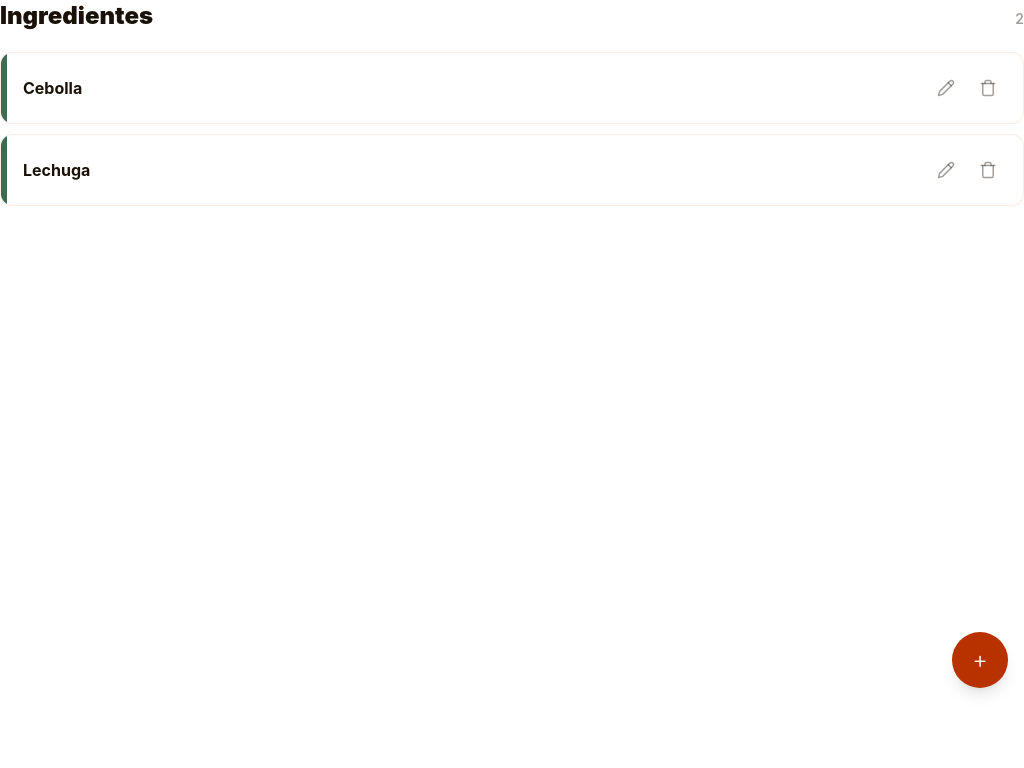
IngredientsPage › opens confirm dialog when delete button is clicked
Expected: the text "Cebolla" is shown, [23, 78, 82, 98]
Click the button named "Eliminar Cebolla" at (988, 88), box [969, 69, 1007, 107]
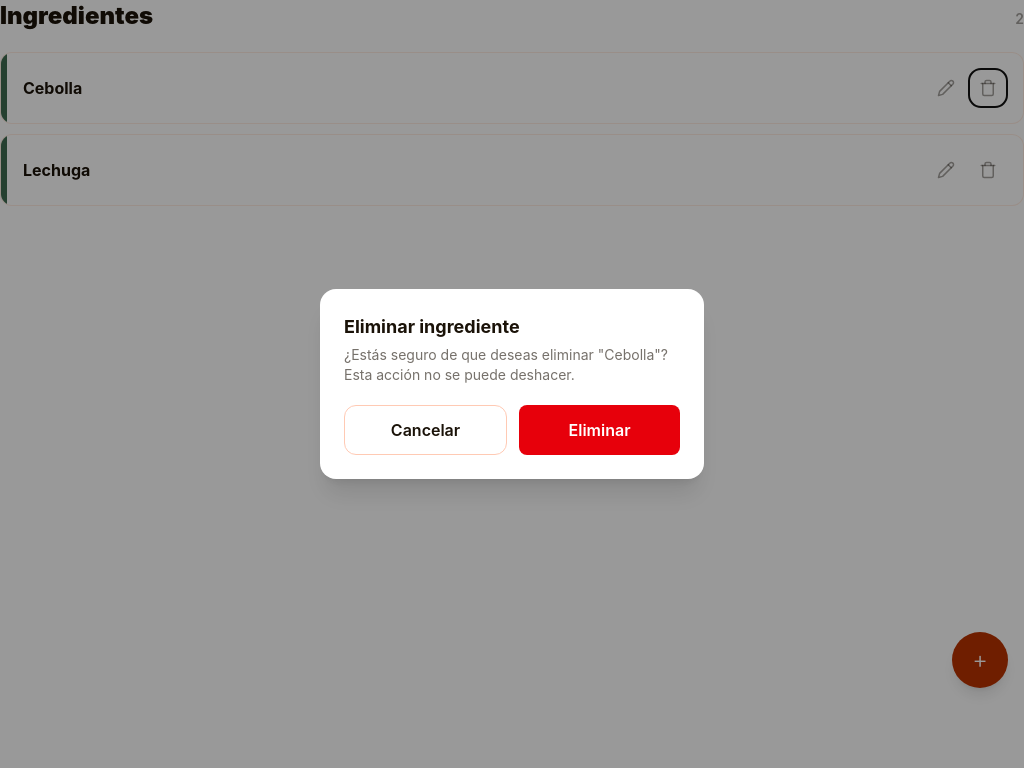
Now the dialog is shown
Now the heading "Eliminar ingrediente" is shown, box [344, 316, 520, 337]
Now the text "Cebolla" is shown, box [344, 346, 668, 383]
